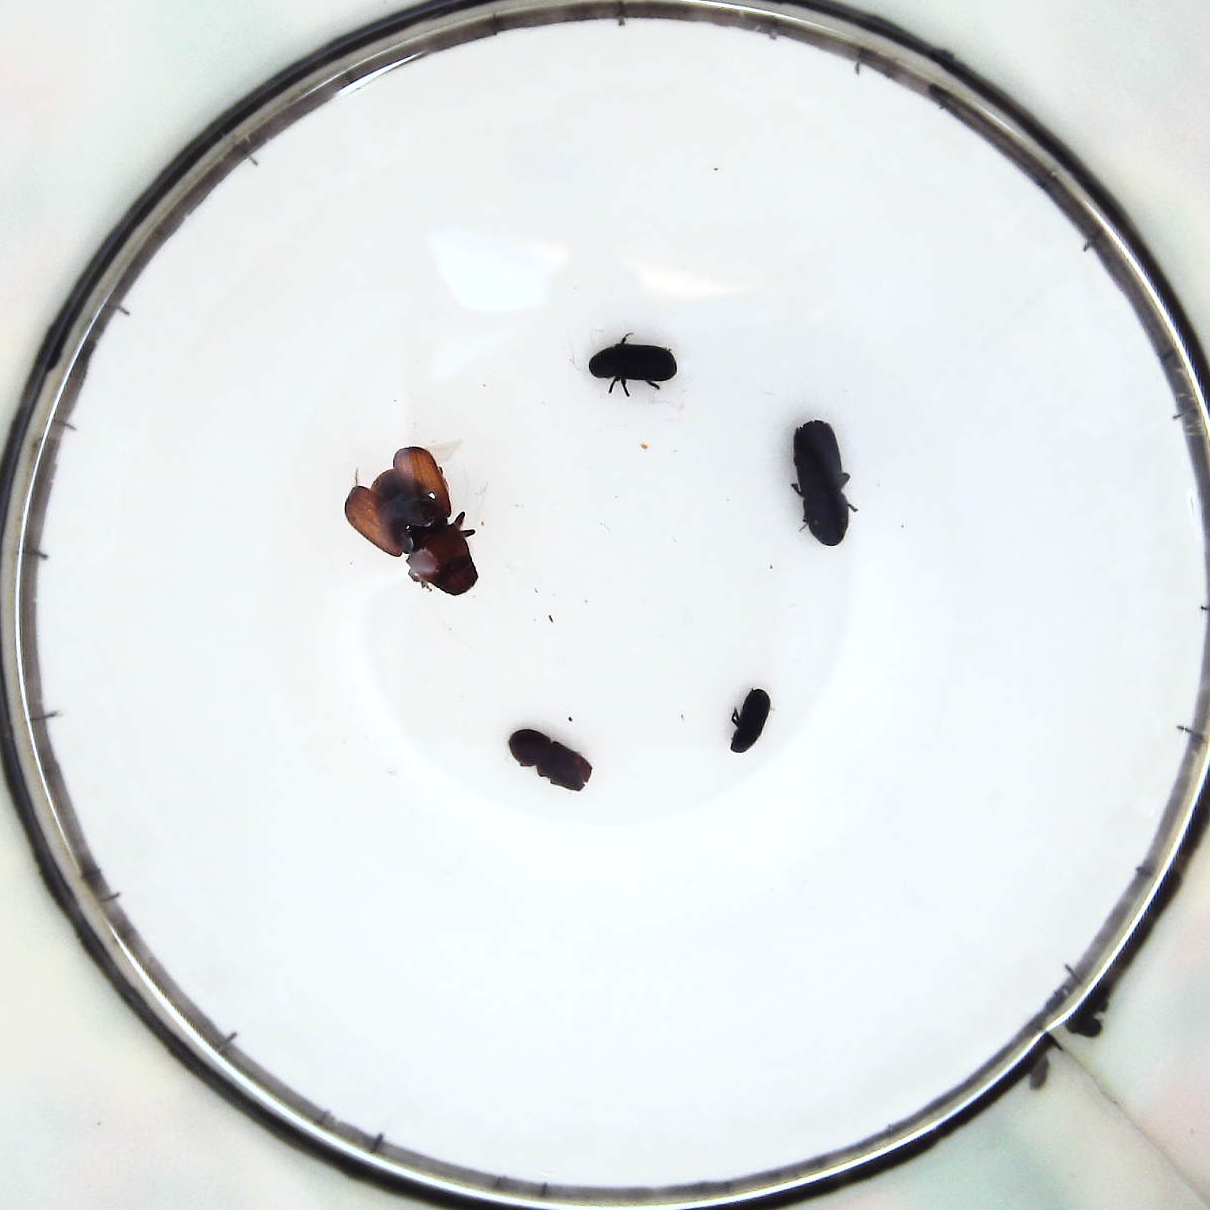Boerner: (793, 424, 854, 551)
Leconte: (345, 453, 484, 595)
Linnaeus: (503, 724, 591, 792)
armandi: (591, 331, 676, 397)
coleoptera: (730, 687, 775, 758)
